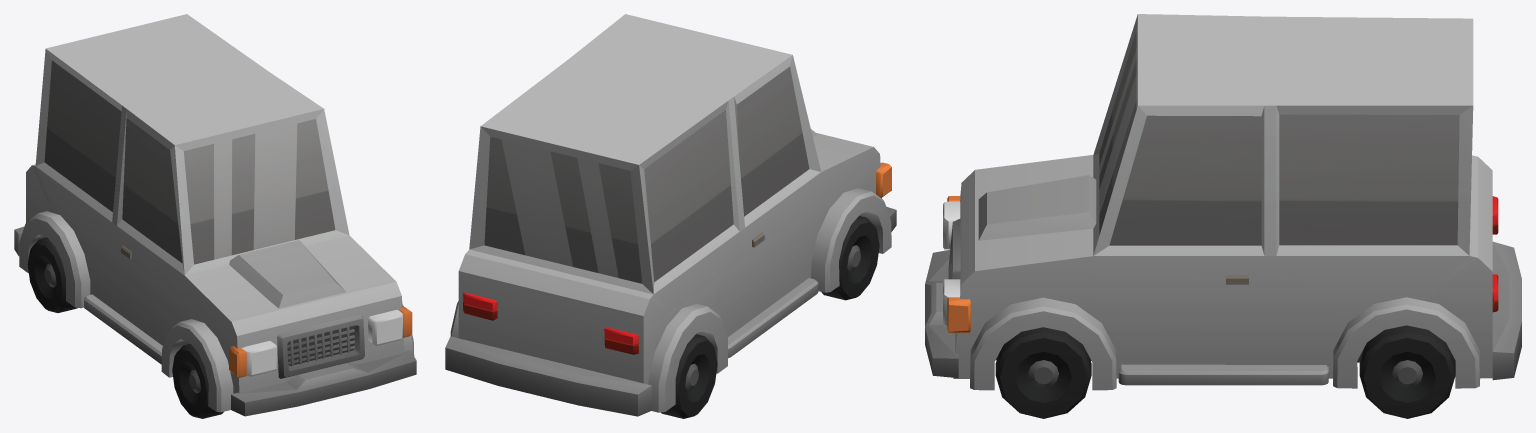
File: Car_5_22.fbx
3 renders of one model, left to right at view 1: azimuth 30°, elevation 25°; view 2: azimuth 150°, elevation 25°; view 3: azimuth 270°, elevation 25°, orthographic. The views are drawn at different scales.
Visible parts, largest first — view 1: Car_5_22, W_br, W_fr; view 2: Car_5_22, W_br, W_fr; view 3: Car_5_22, W_bl, W_fl.
Part boxes in pixels (left/top/right/bottom): Car_5_22: left=14, top=14, right=416, bottom=416; W_br: left=27, top=237, right=77, bottom=312; W_fr: left=172, top=343, right=223, bottom=418; Car_5_22: left=445, top=14, right=896, bottom=416; W_br: left=661, top=334, right=717, bottom=418; W_fr: left=821, top=216, right=879, bottom=300; Car_5_22: left=925, top=14, right=1521, bottom=390; W_bl: left=1359, top=325, right=1455, bottom=418; W_fl: left=995, top=327, right=1091, bottom=418.
Size of the model in its own units: 113 by 130 by 233.
